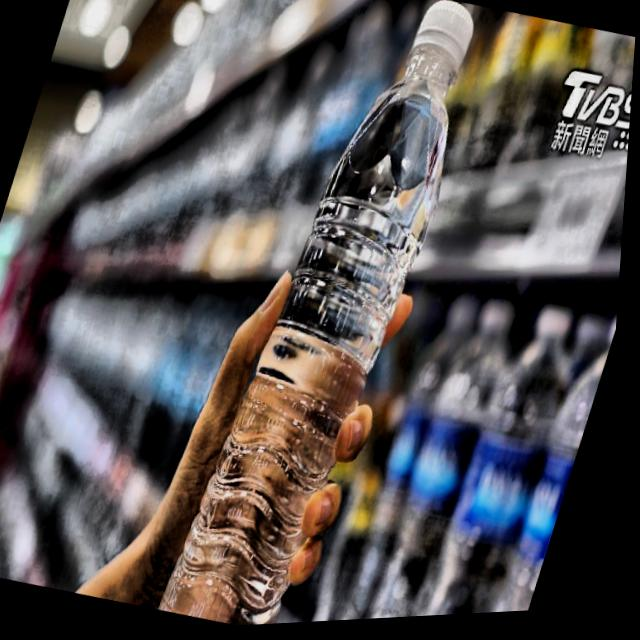Bottles: (160, 0, 501, 632)
